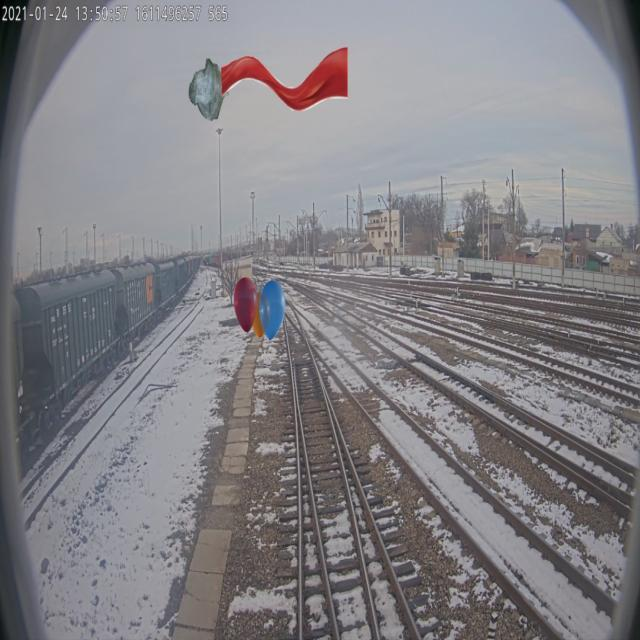balloon: (233, 276, 286, 340)
floating object: (221, 47, 348, 111)
plastic bag: (188, 57, 229, 121)
